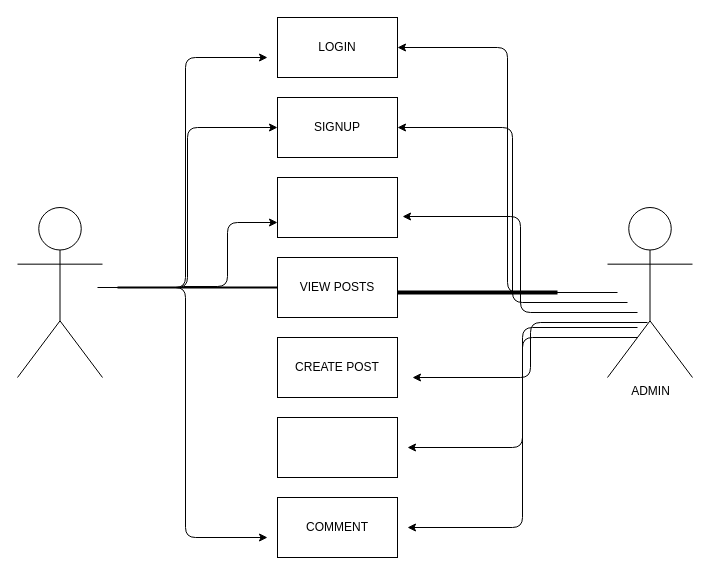
Image size: 710x575. Some labels were removed from this diagram. The shapes that lost their labels are listed below. From the top down, each one's box as (x1, y1, x2, y2) in pixels, then its label:
(276, 176, 398, 238): DELETE ACCOUNT
(16, 206, 102, 378): USER
(276, 416, 398, 478): DELETE POST
